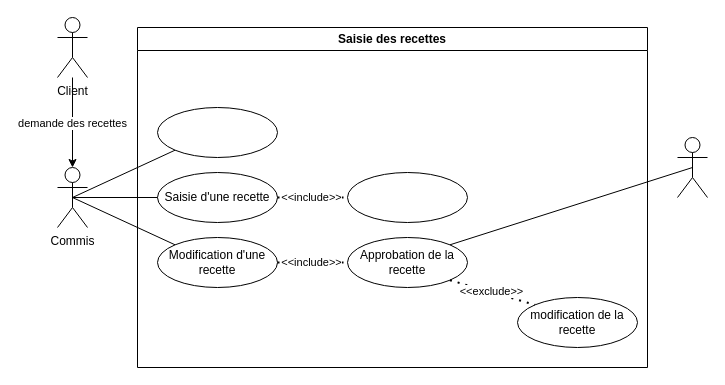
Image size: 725x385. Some labels were removed from this diagram. Here are the shapes that lost their labels. From the top down, the box of each, then its label:
(156, 106, 278, 158): Accedez au site
(676, 136, 708, 198): PDG
(346, 172, 468, 222): Validation de la recette
